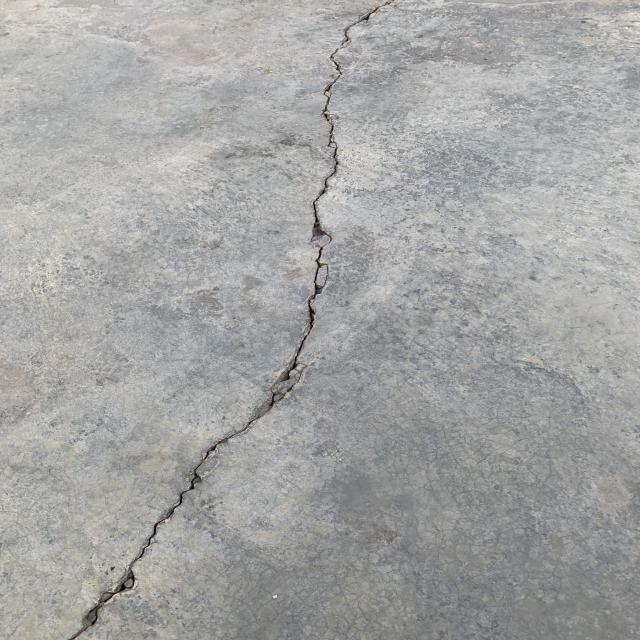diagonal crack: (37, 0, 428, 640)
